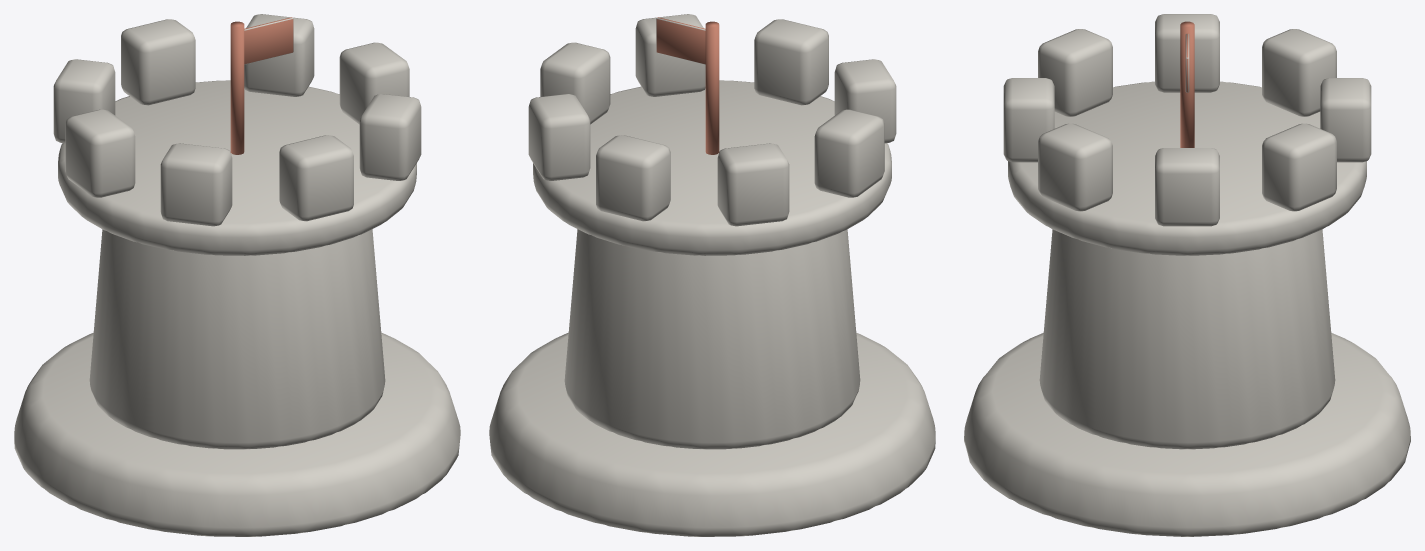
The model's file is SM_FortMarker.fbx.
The picture shows the model from 3 angles, left to right: view 1: azimuth 30°, elevation 25°; view 2: azimuth 150°, elevation 25°; view 3: azimuth 270°, elevation 25°; orthographic projection.
Visible parts, largest first — view 1: SM_FortMarker; view 2: SM_FortMarker; view 3: SM_FortMarker.
Part boxes in pixels (box(x1,y1,x2,y2)): SM_FortMarker: box(14, 14, 460, 536); SM_FortMarker: box(489, 14, 935, 536); SM_FortMarker: box(964, 14, 1410, 536).
Bounding box in the file's own units: 5.08 × 5.3 × 5.08.
